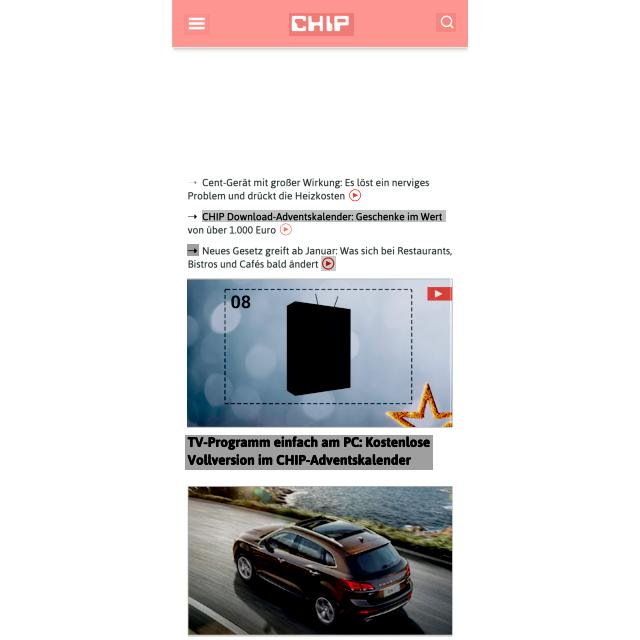Input field: (202, 210, 446, 222)
bag: (173, 0, 469, 48)
breadcrumbs: (185, 436, 433, 472)
carousel: (436, 13, 456, 32), (187, 15, 208, 32), (347, 188, 365, 204), (321, 256, 336, 271), (278, 223, 294, 236), (432, 288, 447, 299), (185, 210, 199, 221), (187, 244, 199, 256), (185, 179, 200, 186)
copy: (188, 486, 452, 637), (188, 278, 452, 428)
date picker: (289, 13, 354, 36)
decoration: (183, 14, 210, 35)
